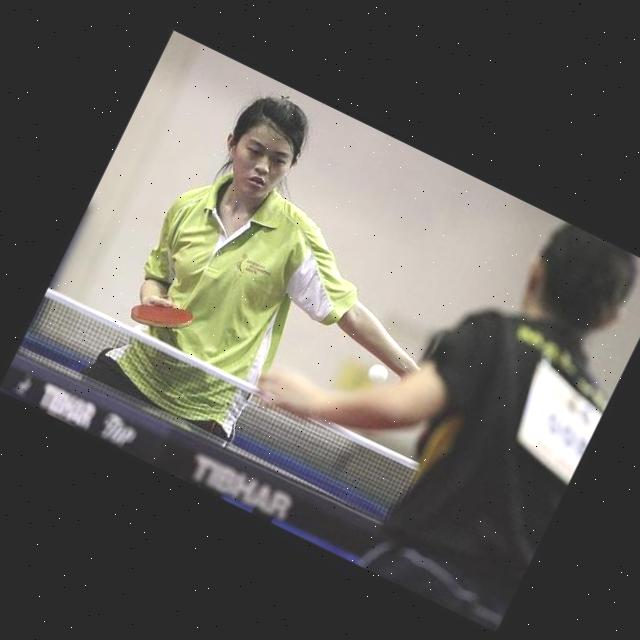ping-pong-ball: (362, 360, 390, 388)
